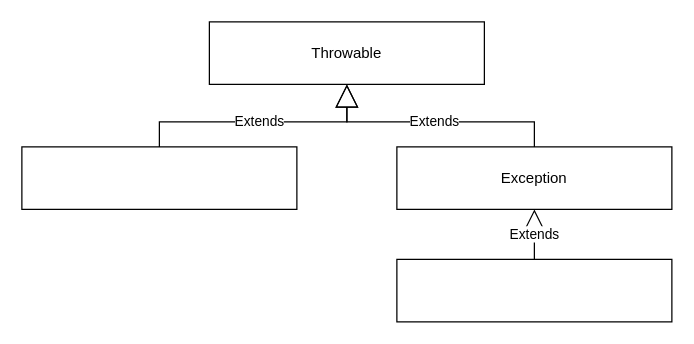
The diagram is 694 pixels wide and 344 high, and some of its shapes have lost their labels. The shapes that lost their labels are listed below. From the top down, each one's centre as x and y in pixels, then its label:
[159,177]: Error
[534,290]: RuntimeException
